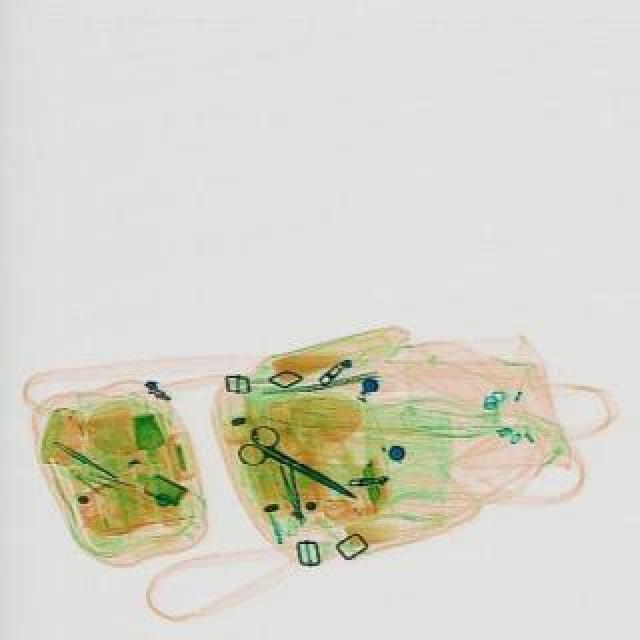pliers: (234, 420, 368, 516)
